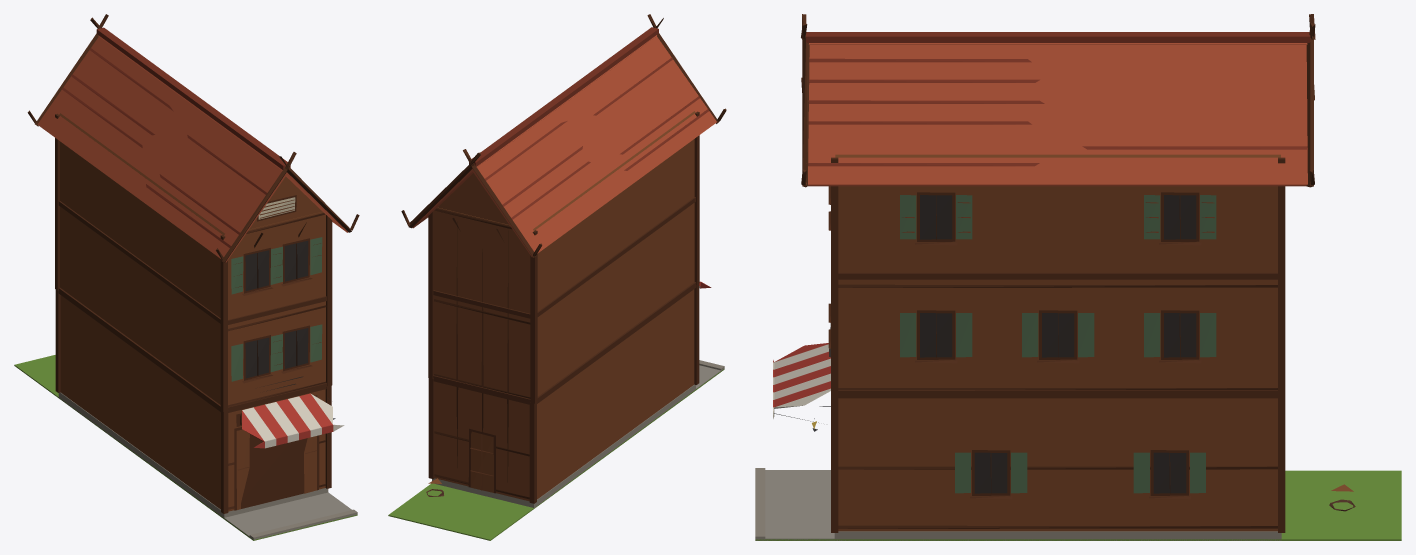
The model's file is bay2_right.glb.
3 views of the same model, side by side, from view 1: azimuth 30°, elevation 25°; view 2: azimuth 150°, elevation 25°; view 3: azimuth 270°, elevation 25° (orthographic). The views are drawn at different scales.
Visible parts, largest first — view 1: body, windows; view 2: body; view 3: body, windows.
Boxes of the visible parts, x1,y1,x2,y2 form: body: [14, 14, 359, 540]; windows: [245, 240, 308, 378]; body: [388, 14, 726, 540]; body: [755, 14, 1401, 540]; windows: [812, 195, 1196, 493].
Bounding box in the file's own units: 5.52 × 13.27 × 15.9.
